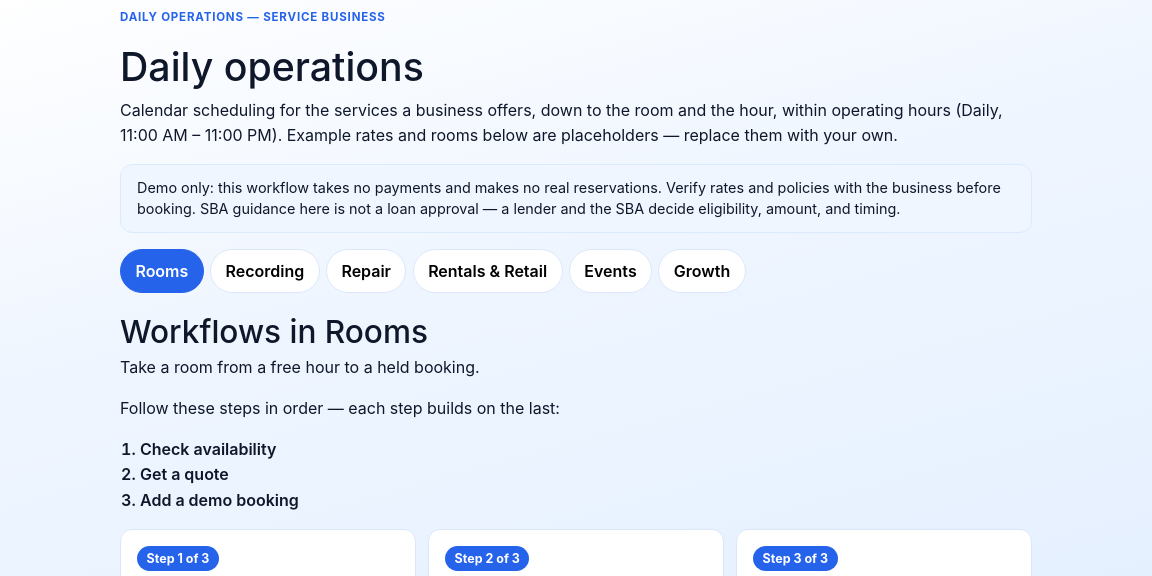
it: ServiceDaily › growth is a prepared scope tab, not the default
Expected: the text "Do not assume growth" is not shown
What coordinates should you click on to do the following:
click the tab "Growth"
I would click on:
 (702, 271)
Its box is [658,249,746,293].
(page scrolled)
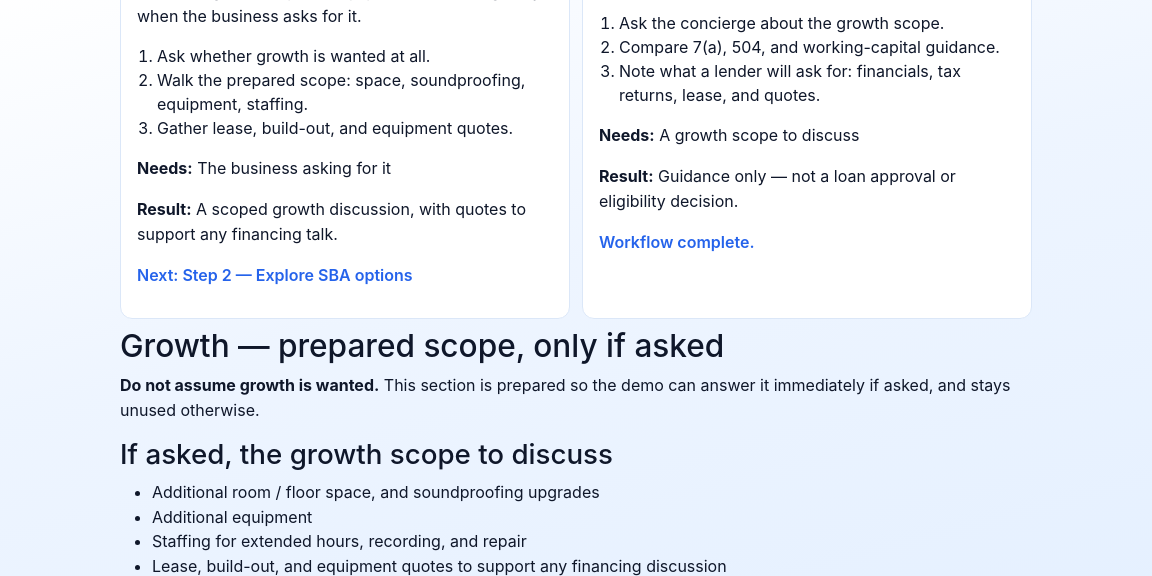
Expected: the text "Do not assume growth is wanted." is shown, [120,375,379,395]
Expected: the heading "Growth — prepared scope, only if asked" is shown, [120,326,724,365]
